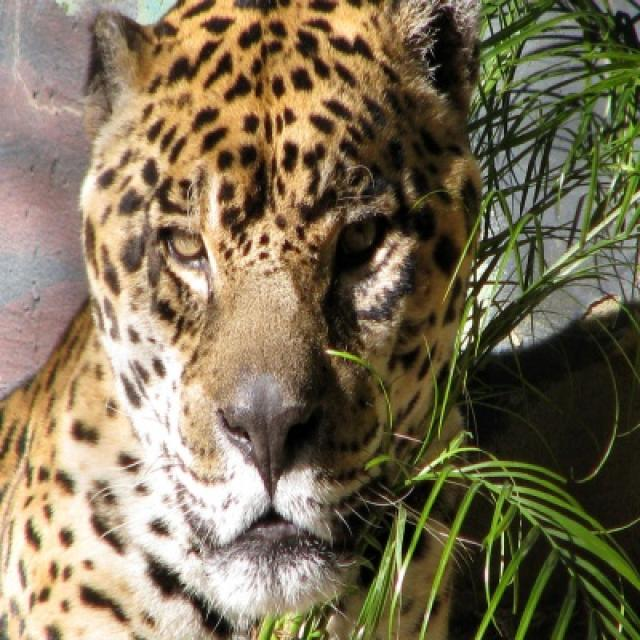Jaguar: (0, 0, 485, 638)
